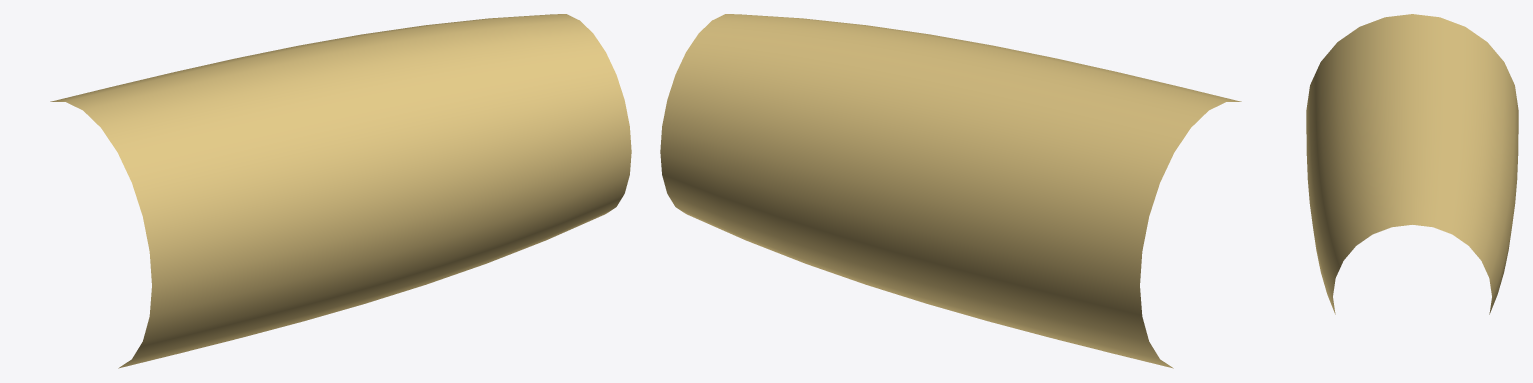
Rendered from spent_casing_napalm_fuel.glb.
3 views of the same model, side by side, from view 1: azimuth 30°, elevation 25°; view 2: azimuth 150°, elevation 25°; view 3: azimuth 270°, elevation 25° (orthographic). The views are drawn at different scales.
Parts seen in each view (by area): view 1: Spent_Igniter_Cartridge; view 2: Spent_Igniter_Cartridge; view 3: Spent_Igniter_Cartridge.
Part boxes in pixels (left/top/right/bottom): Spent_Igniter_Cartridge: left=50, top=14, right=631, bottom=368; Spent_Igniter_Cartridge: left=660, top=14, right=1241, bottom=368; Spent_Igniter_Cartridge: left=1306, top=14, right=1518, bottom=314.
Size of the model in its own units: 0.075 by 0.036 by 0.036.
